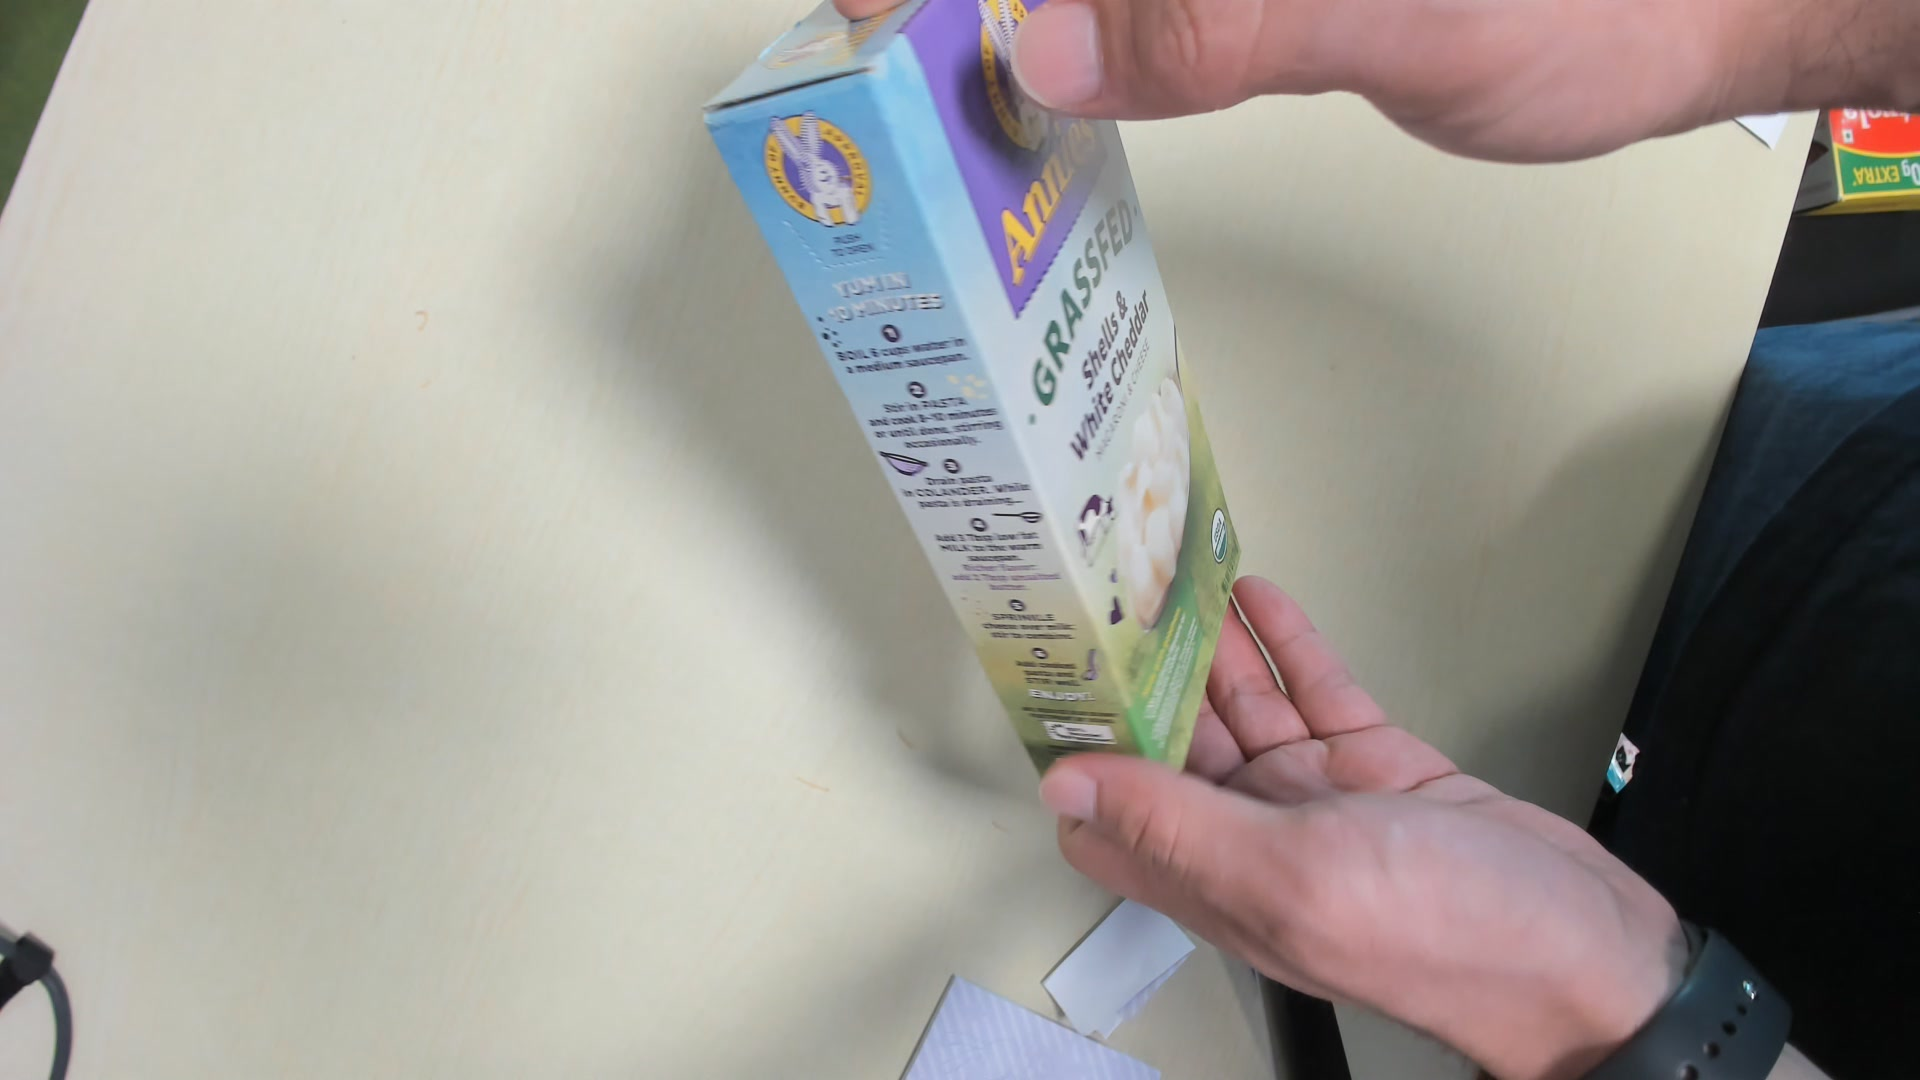InstantMeals_100_199g_NonHalal_NonHealthy: (700, 3, 1246, 767)
